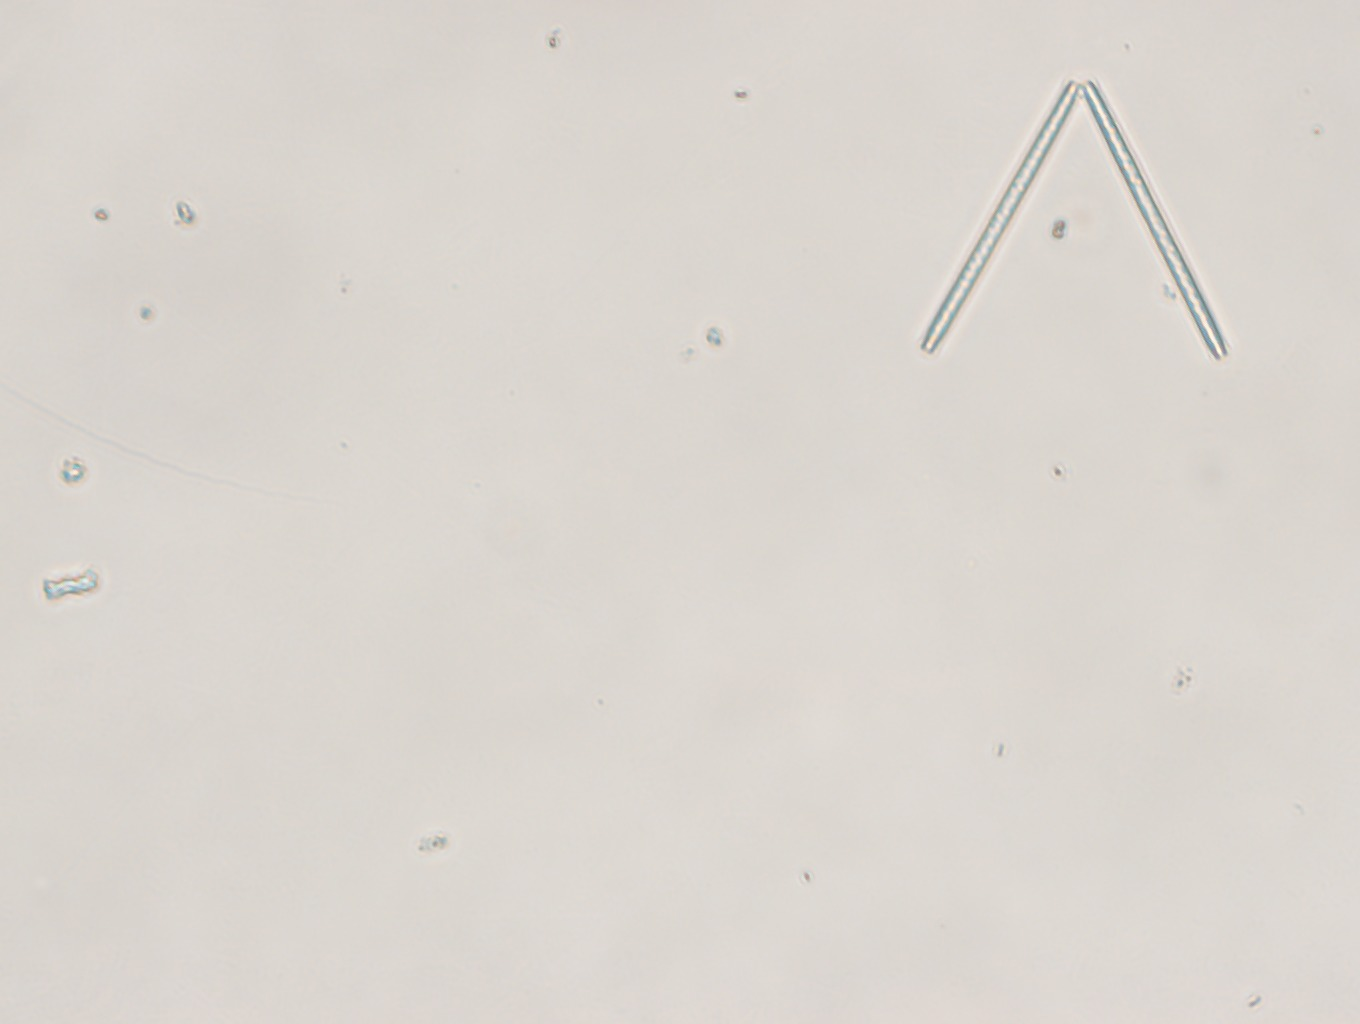thalassionema frauenfeldii: (922, 77, 1236, 374)
